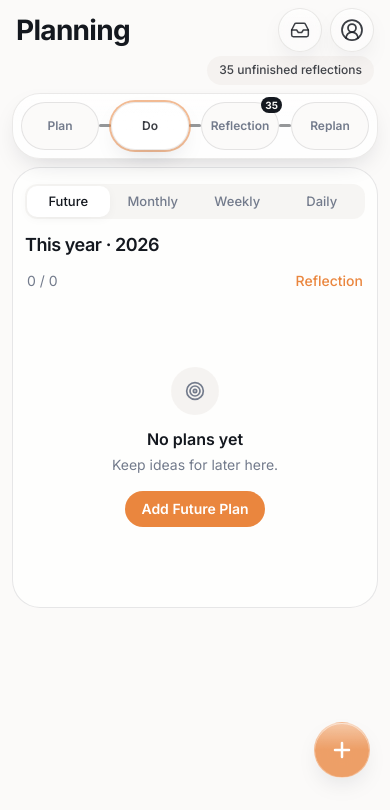
Test: Plan cycle navigation › opens Plan, Reflection, and Replan immediately from the cycle
Click the button with test id "cycle-plan": [60, 126] box [21,102,99,150]
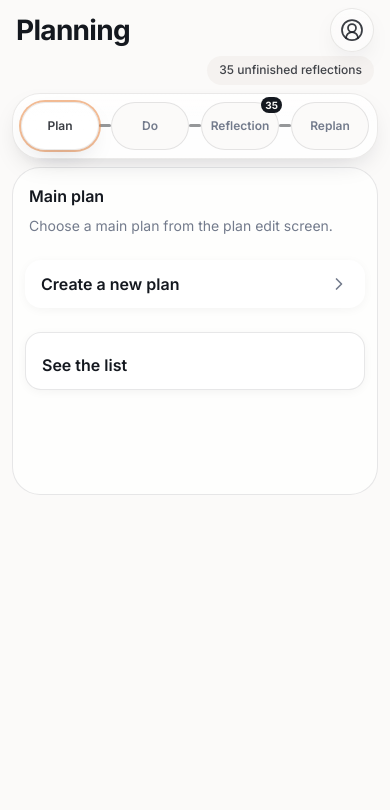
Expected: the heading "Planning" is shown, [16,12,130,48]
Expected: the button with test id "cycle-plan" is marked as current, [21,102,99,150]
Click the button with test id "cycle-reflection": [240, 126] box [201,102,279,150]
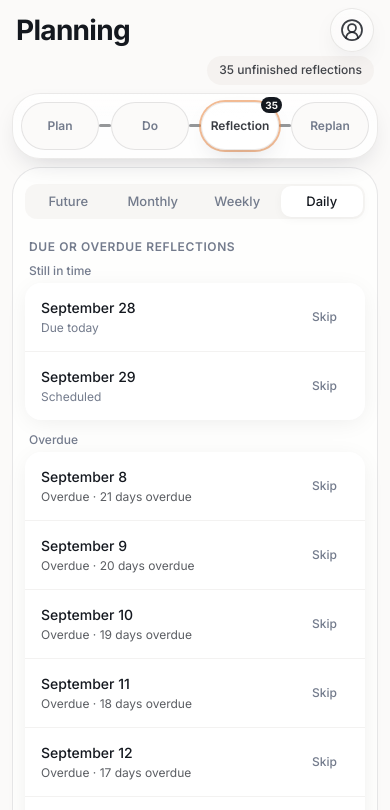
Expected: the tab "Daily" is shown, [280,186,363,217]
Click the button with test id "cycle-replan": [330, 126] box [291,102,369,150]
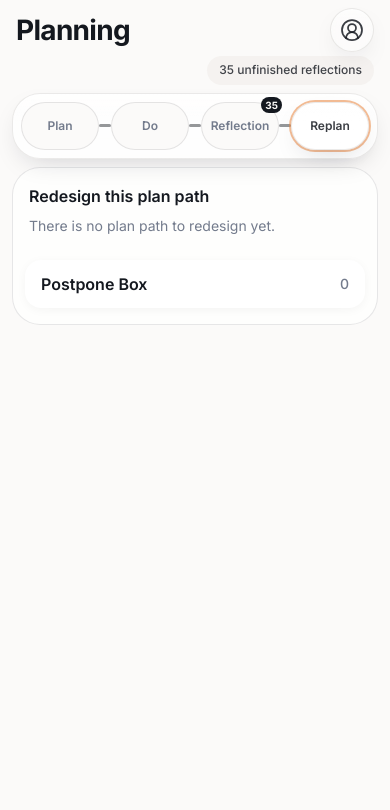
Expected: the button with test id "cycle-replan" is marked as current, [291,102,369,150]
Click the button with test id "cycle-do": [150, 126] box [111,102,189,150]
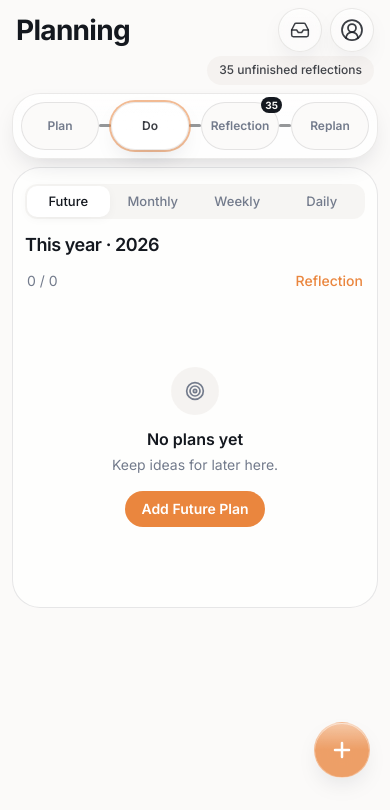
Expected: the tab "Future" is shown, [27,186,110,217]
